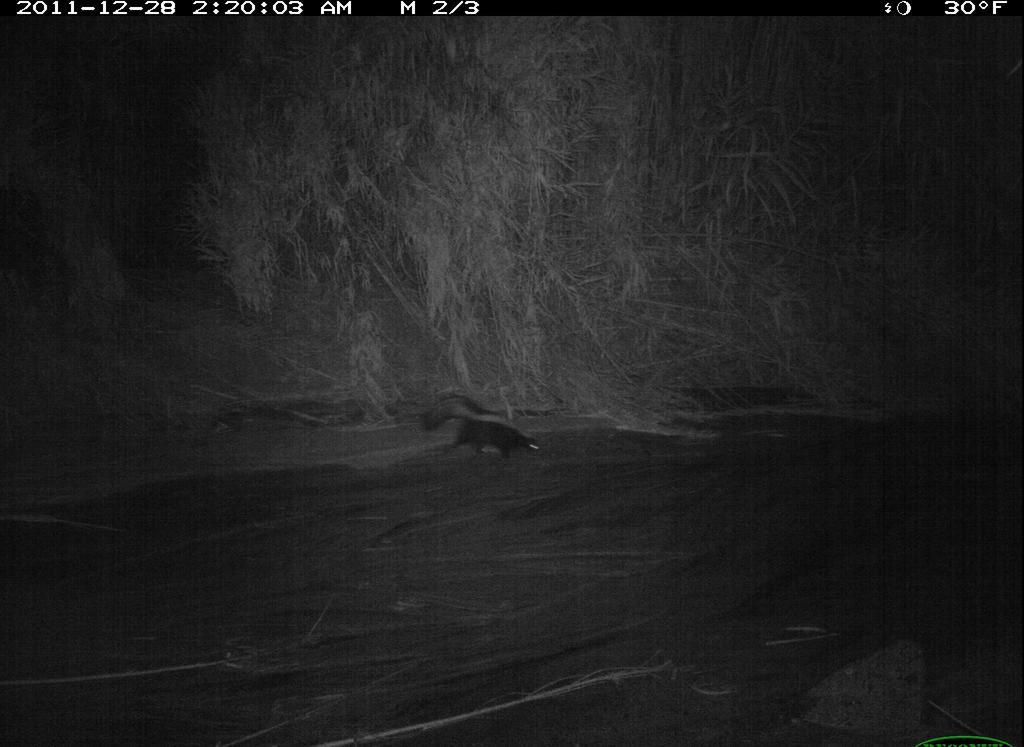skunk: (414, 370, 551, 469)
